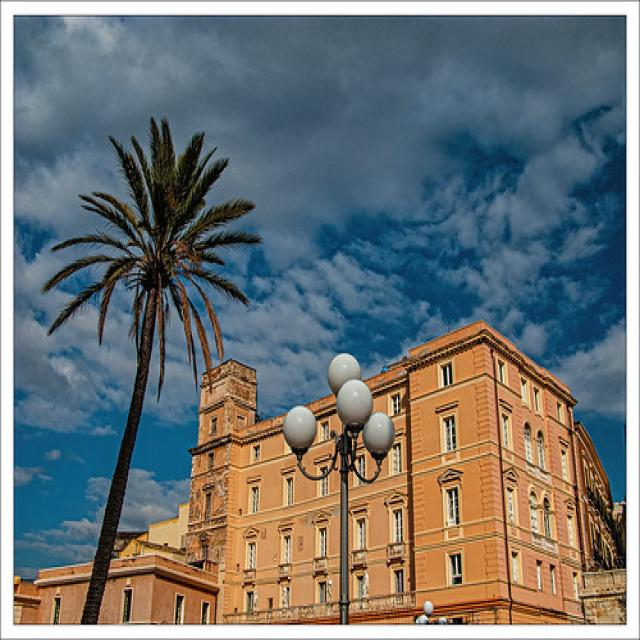building: (183, 320, 620, 622)
